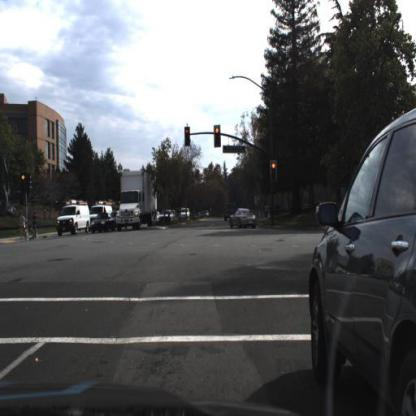biker: (17, 214, 31, 243), (20, 213, 27, 240), (33, 210, 37, 239)
car: (308, 115, 416, 414), (309, 114, 416, 414), (54, 204, 91, 235), (230, 206, 259, 233), (90, 203, 116, 228), (91, 212, 115, 233), (160, 209, 174, 224), (189, 207, 200, 223), (180, 209, 191, 221)
pedestrian: (30, 208, 40, 242), (31, 211, 41, 242), (115, 199, 125, 230)
trafficLight-Red: (212, 123, 222, 150), (269, 159, 279, 186)
trafficLight-RedLeft: (17, 172, 27, 196), (184, 124, 192, 148)
truck: (116, 171, 158, 232), (57, 201, 91, 236), (88, 202, 111, 226)
